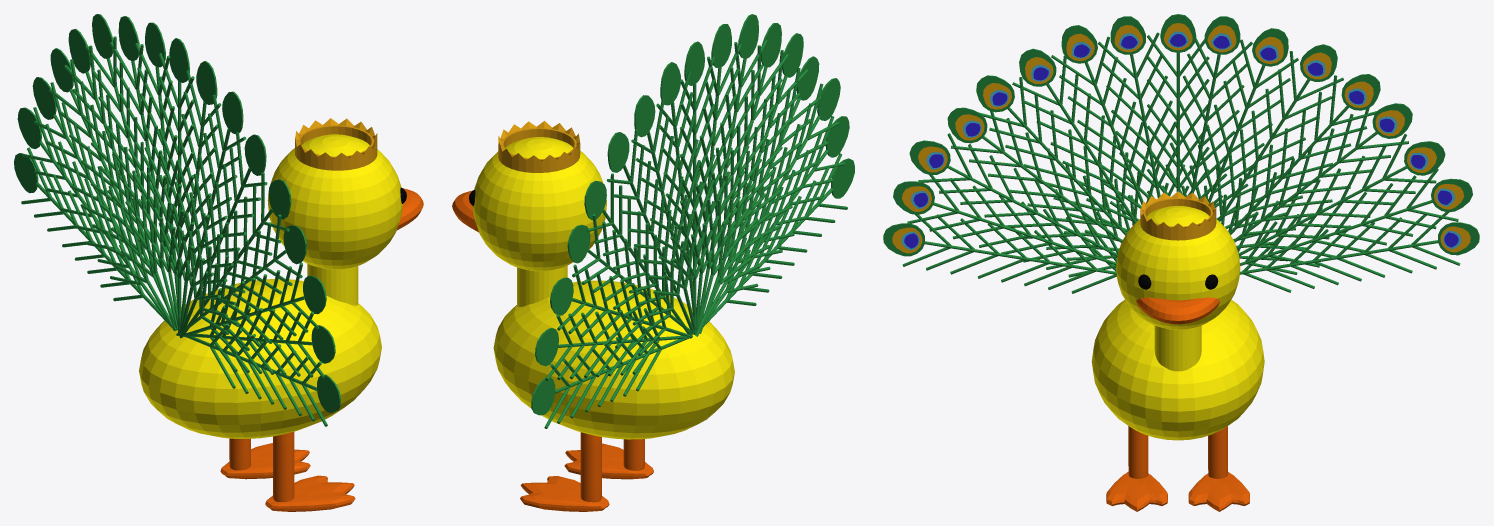
File: pato_real.glb
3 views of the same model, side by side, from view 1: azimuth 30°, elevation 25°; view 2: azimuth 150°, elevation 25°; view 3: azimuth 270°, elevation 25° (orthographic). The views are drawn at different scales.
Parts seen in each view (by area): view 1: Sphere, Cylinder.012, Cylinder.002, Cylinder.003, Cylinder.004, Cylinder.005, Cylinder.011, Cylinder.014, Cylinder.001, Cylinder.016, Cylinder.009, Cylinder.010 (+7 smaller); view 2: Sphere, Cylinder.009, Cylinder.013, Cylinder.010, Cylinder.008, Cylinder.015, Cylinder.006, Cylinder.001, Cylinder.002, Cylinder.007, Cylinder.011, Cylinder.012 (+7 smaller); view 3: Sphere, Cylinder.005, Cylinder.016, Cylinder.006, Cylinder.007, Cylinder.017, Cylinder.004, Cylinder.014, Cylinder.012, Cylinder.003, Cylinder.008, Cylinder.015 (+7 smaller).
Boxes of the visible parts, bbox=[...] form: Sphere: bbox=[139, 134, 423, 511]; Cylinder.012: bbox=[85, 14, 177, 327]; Cylinder.002: bbox=[109, 16, 179, 331]; Cylinder.003: bbox=[64, 29, 176, 330]; Cylinder.004: bbox=[32, 77, 174, 330]; Cylinder.005: bbox=[14, 147, 173, 328]; Cylinder.011: bbox=[135, 22, 185, 329]; Cylinder.014: bbox=[49, 48, 177, 329]; Cylinder.001: bbox=[158, 38, 194, 332]; Cylinder.016: bbox=[17, 107, 169, 324]; Cylinder.009: bbox=[180, 91, 246, 330]; Cylinder.010: bbox=[169, 61, 221, 331]; Sphere: bbox=[452, 137, 734, 511]; Cylinder.009: bbox=[698, 14, 767, 328]; Cylinder.013: bbox=[700, 23, 788, 325]; Cylinder.010: bbox=[690, 24, 741, 331]; Cylinder.008: bbox=[699, 33, 808, 333]; Cylinder.015: bbox=[695, 56, 821, 336]; Cylinder.006: bbox=[703, 153, 854, 326]; Cylinder.001: bbox=[680, 41, 715, 334]; Cylinder.002: bbox=[631, 95, 696, 332]; Cylinder.007: bbox=[704, 78, 840, 323]; Cylinder.011: bbox=[656, 62, 707, 329]; Cylinder.012: bbox=[606, 129, 694, 332]; Sphere: bbox=[1091, 205, 1264, 511]; Cylinder.005: bbox=[1239, 212, 1479, 292]; Cylinder.016: bbox=[1240, 169, 1472, 274]; Cylinder.006: bbox=[883, 214, 1116, 293]; Cylinder.007: bbox=[909, 133, 1118, 260]; Cylinder.017: bbox=[893, 175, 1116, 277]; Cylinder.004: bbox=[1237, 134, 1445, 261]; Cylinder.014: bbox=[1228, 103, 1412, 248]; Cylinder.012: bbox=[1204, 44, 1343, 228]; Cylinder.003: bbox=[1221, 74, 1380, 240]; Cylinder.008: bbox=[976, 75, 1134, 241]; Cylinder.015: bbox=[947, 107, 1129, 250].
Size of the model in its own units: 2.43 by 4.02 by 5.02.
